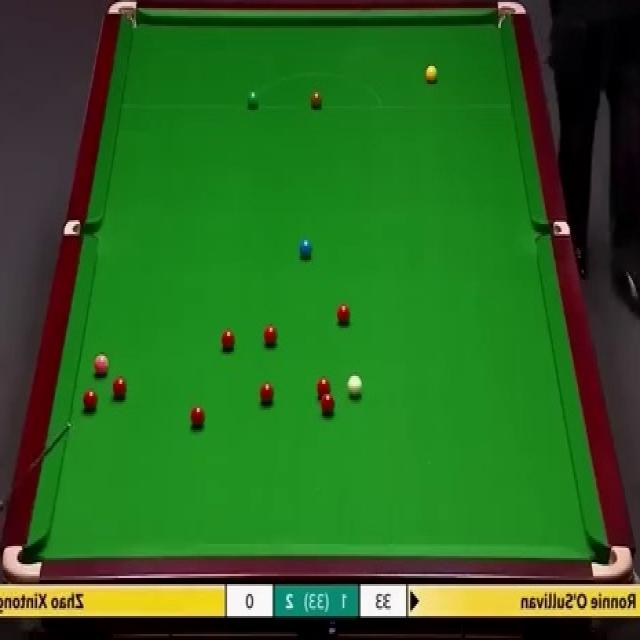blue-ball: (299, 237, 311, 260)
brown-ball: (309, 91, 323, 109)
green-ball: (245, 88, 260, 110)
pink-ball: (93, 353, 110, 375)
red-ball: (258, 380, 276, 408), (262, 324, 279, 350), (80, 388, 98, 412), (220, 328, 237, 351), (113, 375, 128, 400), (337, 300, 352, 325), (191, 406, 207, 427), (316, 377, 332, 397), (320, 396, 335, 416)
white-ball: (348, 376, 362, 400)
yellow-ball: (425, 64, 438, 86)
